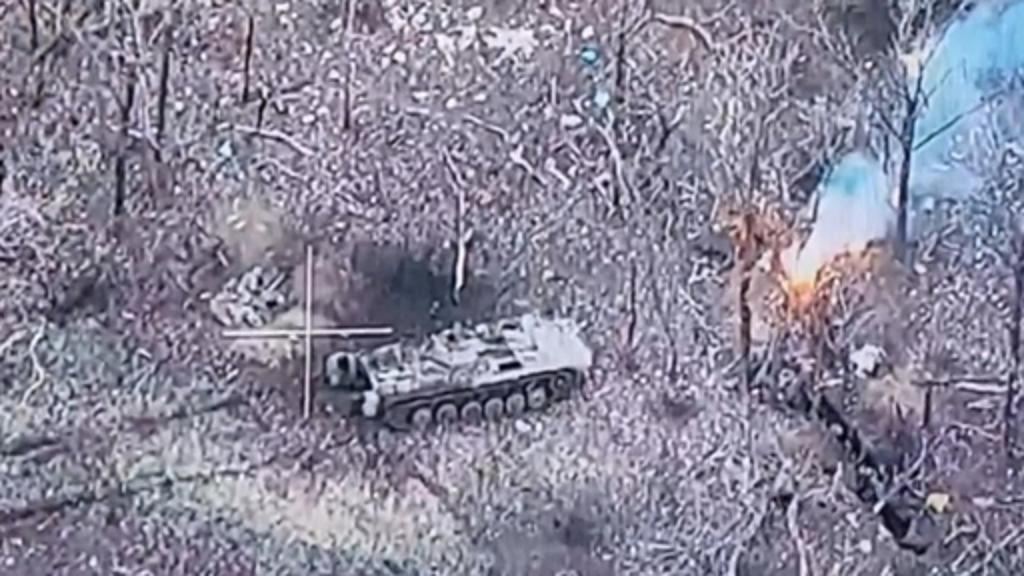APC-IFV: (334, 326, 592, 428)
